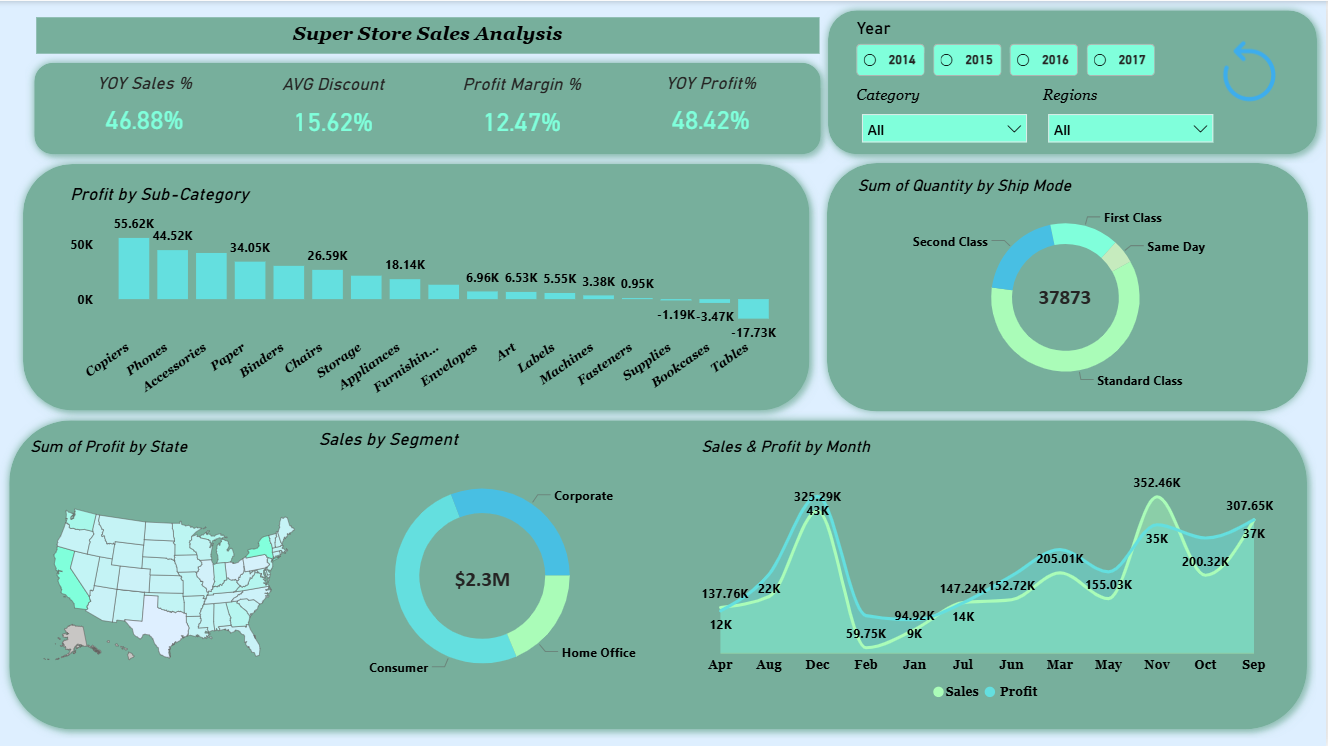

The page's visual inventory and layout, read from the dashboard file:
{"tool":"powerbi","page":{"name":"Page 2","canvas":[1280,720],"ordinal":0},"visuals":[{"type":"shape","box":[0,395.7,1270.4,316.1],"z":0},{"type":"lineChart","title":"Sales & Profit by Month","fields":{"Y":["Sum(Superstore.Sales)"],"Y2":["Sum(Superstore.Profit)"],"Category":["DATE_Table.Month"]},"box":[672,421,562.2,264.2],"z":1000},{"type":"shape","box":[790.2,148.4,480.2,255.8],"z":2000},{"type":"shapeMap","fields":{"Value":["Sum(Superstore.Profit)"],"Category":["Superstore.State"]},"box":[24.1,421,278.7,264.2],"z":3000},{"type":"shape","box":[13.3,148.4,776.9,255.8],"z":4000},{"type":"clusteredColumnChart","title":" Profit by Sub-Category","fields":{"Category":["Superstore.Sub-Category"],"Y":["Sum(Superstore.Profit)"]},"box":[62.7,176.1,699.7,213.5],"z":5000},{"type":"donutChart","title":"Sales by Segment","fields":{"Category":["Superstore.Segment"],"Y":["Sum(Superstore.Sales)"]},"box":[302.8,412.6,325.7,264.2],"z":6000},{"type":"card","fields":{"Values":["Measure.Total_Sales"]},"box":[393.3,509.1,144.8,100.1],"z":7000},{"type":"donutChart","fields":{"Category":["Superstore.Ship Mode"],"Y":["Sum(Superstore.Quantity)"]},"box":[822.8,168.9,411.4,214.7],"z":8000},{"type":"card","fields":{"Values":["Measure.Total_Quantity"]},"box":[972.4,254.6,111,63.9],"z":9000},{"type":"shape","box":[24.1,50.7,776.9,106.2],"z":10000},{"type":"shape","box":[790.2,0,489.8,156.8],"z":11000},{"type":"card","title":"YOY Sales %","fields":{"Values":["Measure.YOY Sales %"]},"box":[48.3,68.8,182.2,71.2],"z":12000},{"type":"advancedSlicerVisual","fields":{"Values":["DATE_Table.Year"]},"box":[821.6,15.7,300.4,62.7],"z":13000},{"type":"slicer","title":"Category","fields":{"Values":["Superstore.Category"]},"box":[821.6,82,179.8,57.9],"z":14000},{"type":"card","title":"AVG Discount","fields":{"Values":["Measure.Avg Discount"]},"box":[230.4,70,182.2,71.2],"z":15000},{"type":"card","title":"Profit Margin %","fields":{"Values":["Measure.Profit_Margin"]},"box":[412.6,70,182.2,71.2],"z":16000},{"type":"card","title":"YOY Profit%","fields":{"Values":["Measure.YOY Profit %"]},"box":[594.8,68.8,182.2,71.2],"z":17000},{"type":"slicer","title":"Regions","fields":{"Values":["Superstore.Region"]},"box":[1001.3,82,179.8,63.9],"z":18000},{"type":"image","box":[1166.6,32.3,78.4,70.9],"z":19000},{"type":"textbox","box":[34.8,16.2,756.2,34.8],"z":20000}]}

Visuals, with their boxes in screenshot pixels (x1, y1, x2, y2), scaled from the page's 1280x720 canvas onto the 1328x746 screenshot:
shape: 0/410/1318/738
"Sales & Profit by Month" lineChart: 697/436/1280/710
shape: 820/154/1318/419
shapeMap - Sum(Superstore.Profit) x Superstore.State: 25/436/314/710
shape: 14/154/820/419
" Profit by Sub-Category" clusteredColumnChart: 65/182/791/404
"Sales by Segment" donutChart: 314/427/652/701
card - Measure.Total_Sales: 408/527/558/631
donutChart - Superstore.Ship Mode x Sum(Superstore.Quantity): 854/175/1280/397
card - Measure.Total_Quantity: 1009/264/1124/330
shape: 25/53/831/163
shape: 820/0/1327/162
"YOY Sales %" card: 50/71/239/145
advancedSlicerVisual - DATE_Table.Year: 852/16/1164/81
"Category" slicer: 852/85/1039/145
"AVG Discount" card: 239/73/428/146
"Profit Margin %" card: 428/73/617/146
"YOY Profit%" card: 617/71/806/145
"Regions" slicer: 1039/85/1225/151
image: 1210/33/1292/107
textbox: 36/17/821/53
